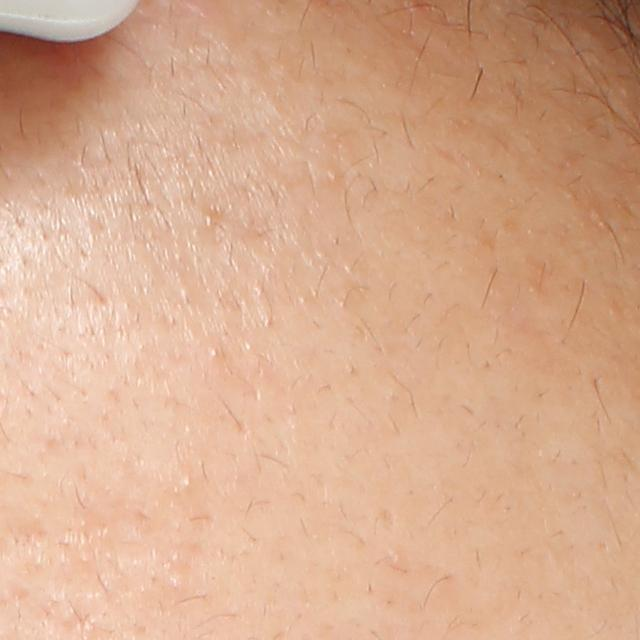comedo: (206, 343, 228, 363), (203, 210, 217, 227), (180, 476, 195, 491)
